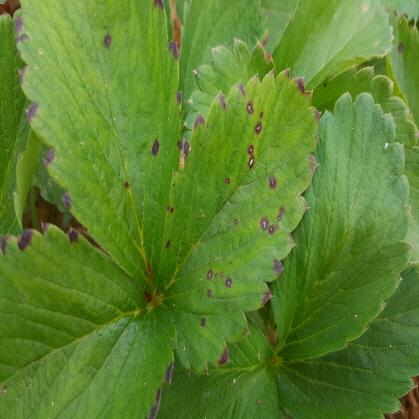Leaf Spot: (10, 0, 182, 296), (157, 67, 322, 373), (387, 7, 418, 130)
